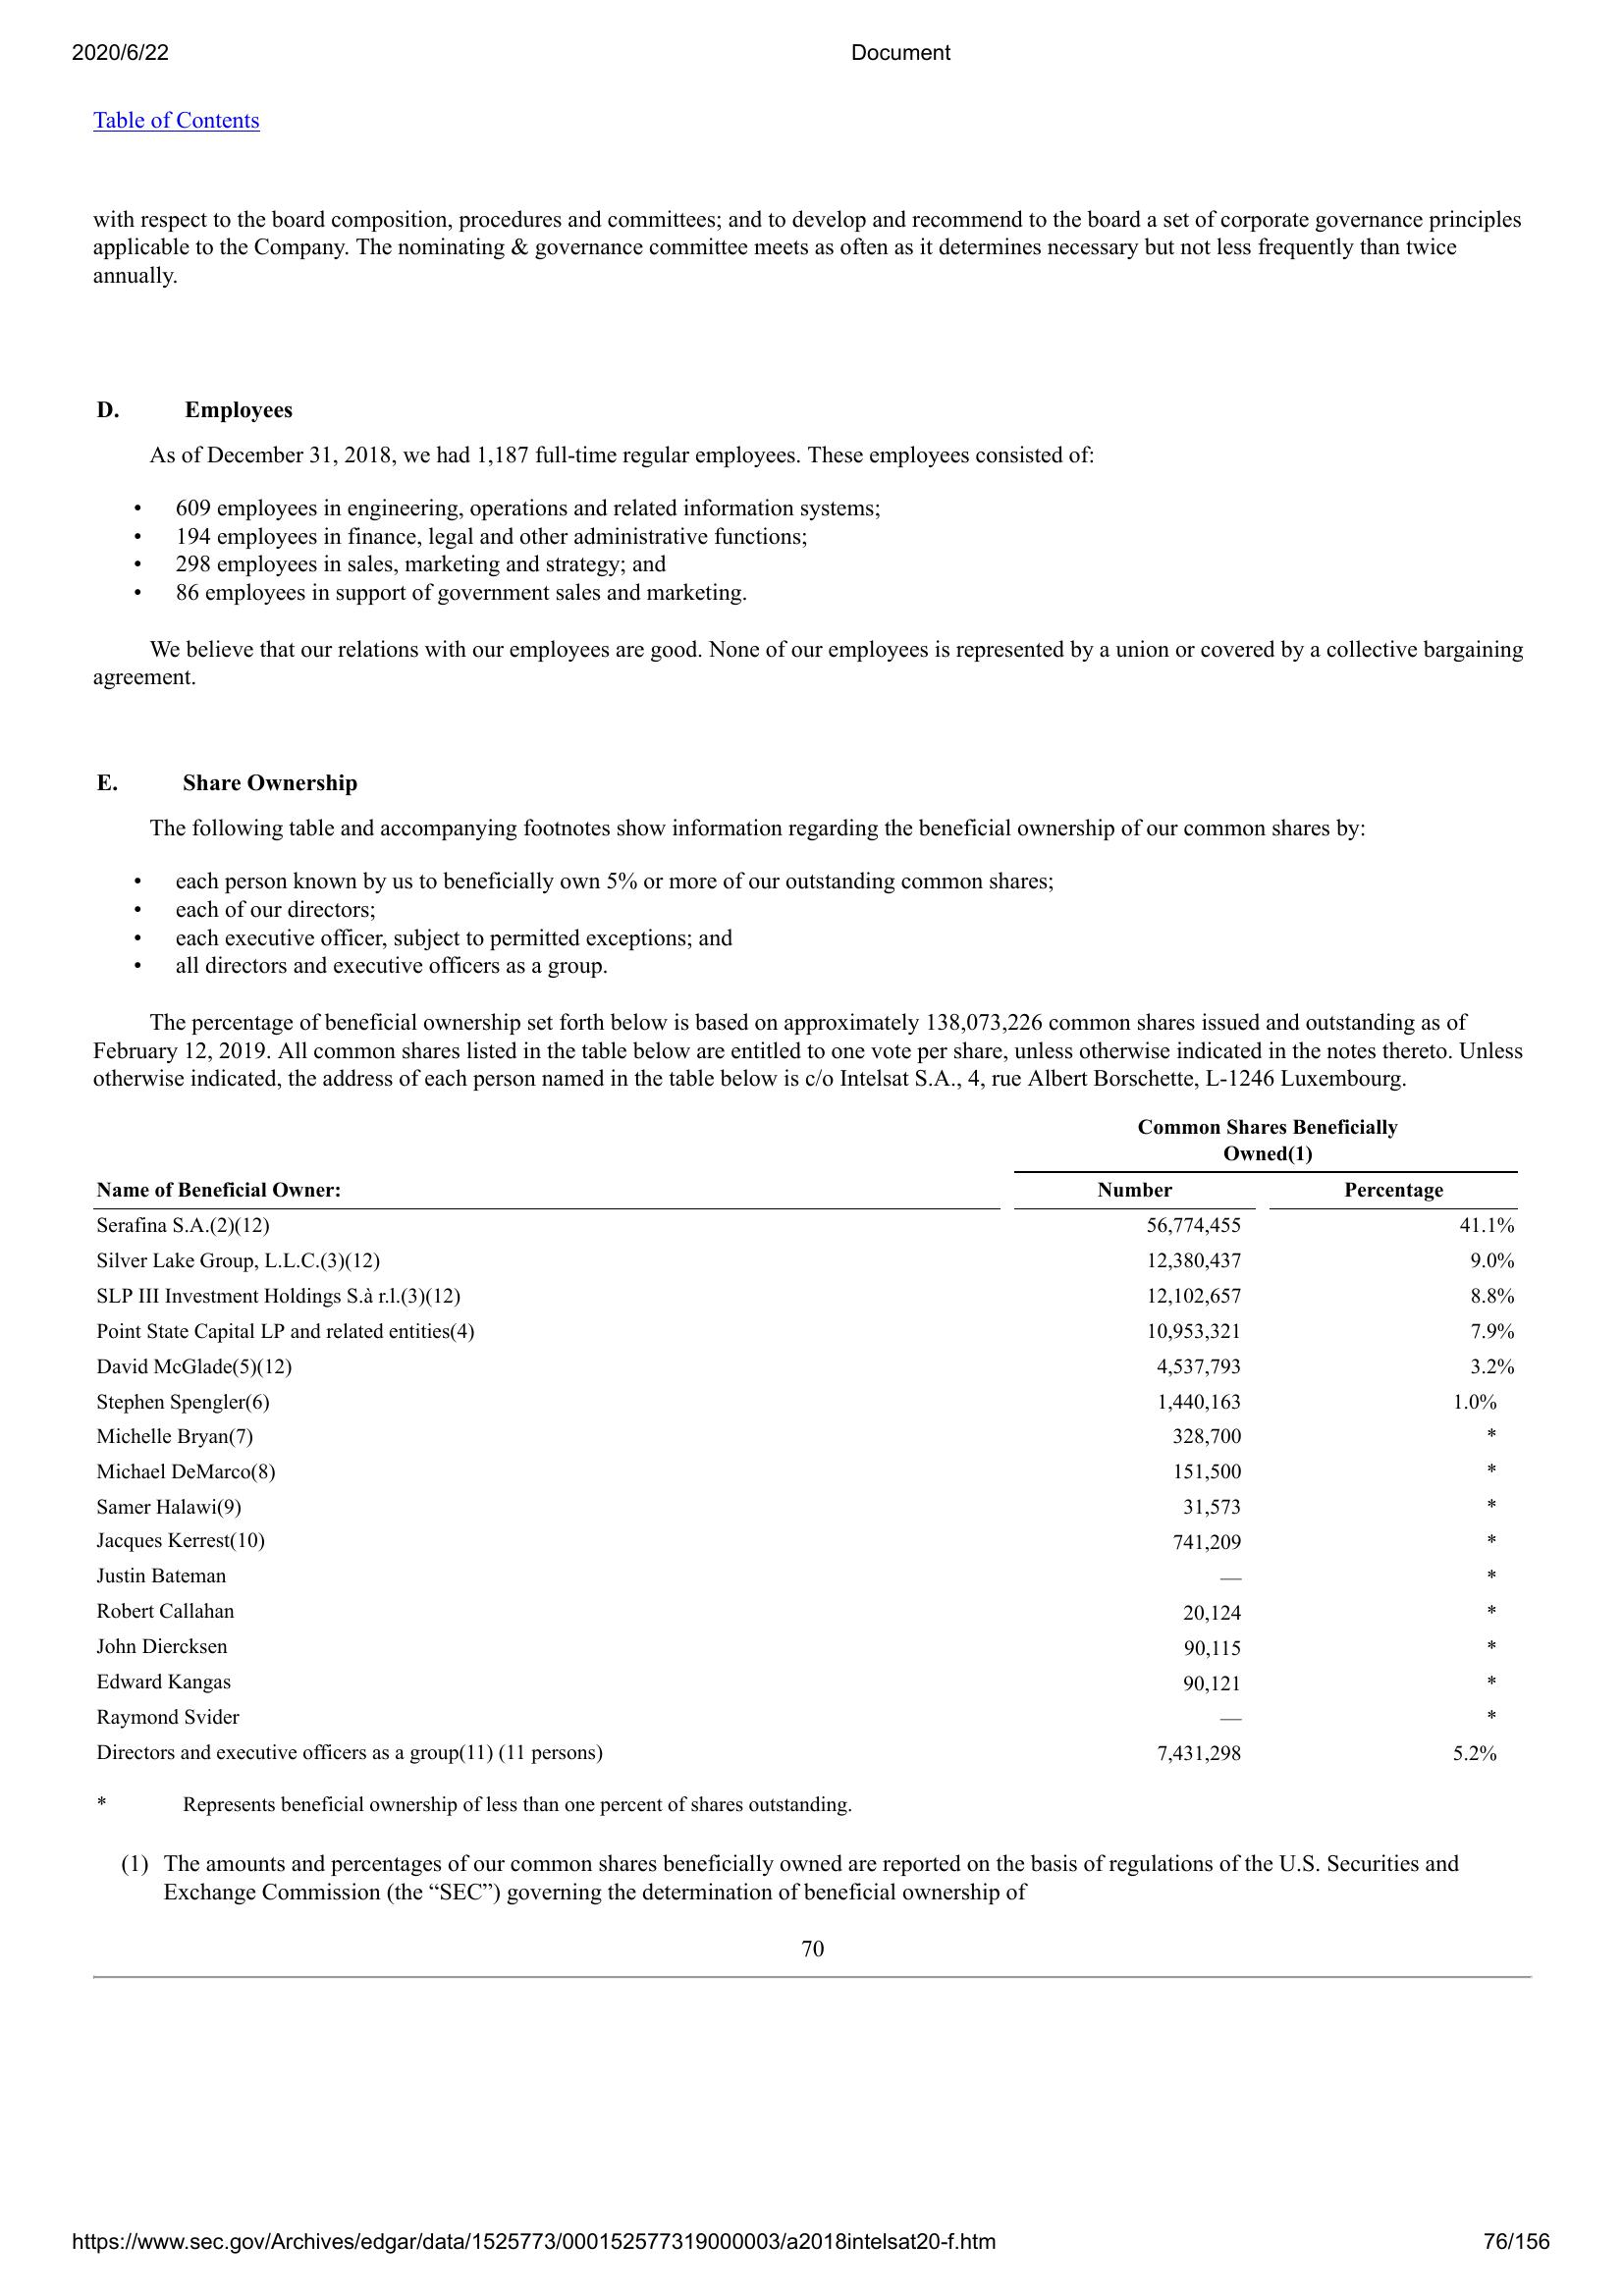table: (84, 1111, 1525, 1769)
